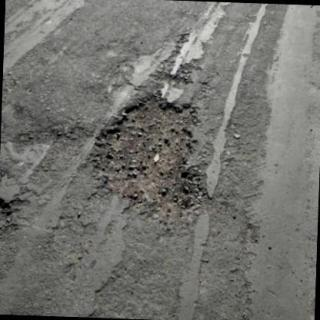pothole: (94, 98, 205, 223)
